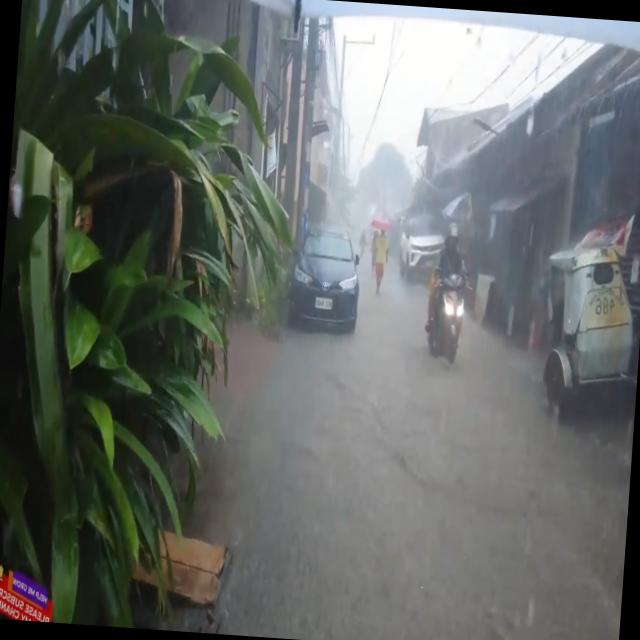half: (442, 222, 460, 256)
